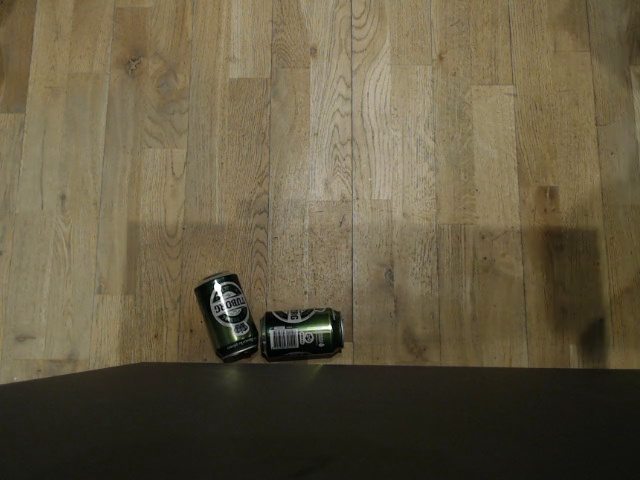beer: (195, 269, 258, 362), (259, 306, 345, 362)
